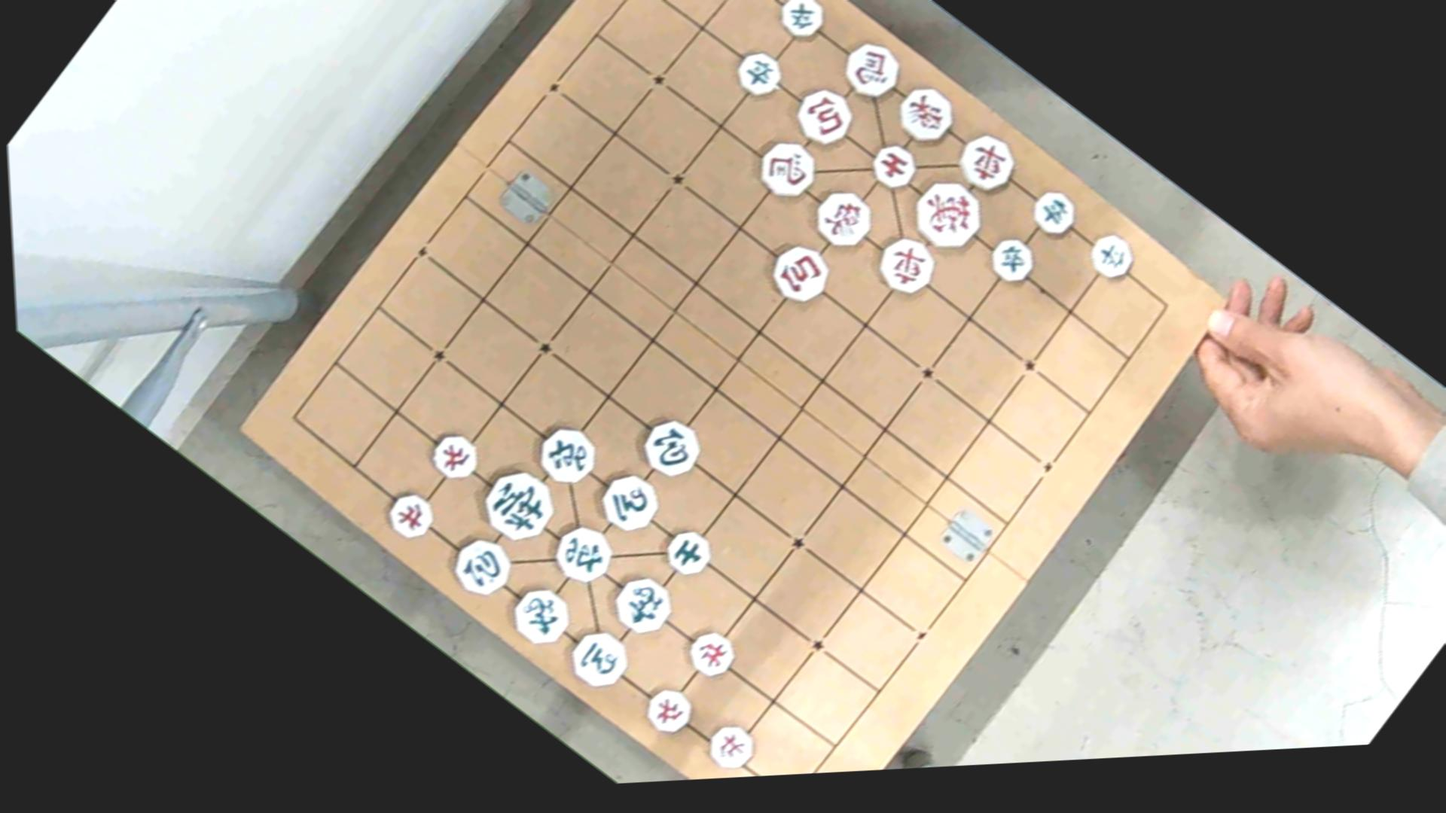cha_green: (525, 413, 609, 495), (544, 514, 624, 593)
cha_red: (946, 122, 1027, 201), (867, 228, 944, 303)
jol_green: (728, 41, 792, 103), (980, 232, 1042, 293), (1023, 182, 1084, 242), (1078, 227, 1140, 286), (769, 0, 831, 46)
jol_red: (380, 483, 444, 547), (679, 620, 743, 683), (698, 715, 761, 778), (425, 425, 489, 487), (639, 681, 701, 742)
ma_green: (587, 462, 667, 541), (559, 620, 639, 698)
ma_red: (745, 130, 827, 210), (832, 33, 911, 110)
po_green: (441, 527, 521, 606), (636, 409, 713, 485)
po_red: (758, 237, 839, 315), (782, 76, 861, 153)
sa_green: (656, 522, 721, 586)
sa_red: (863, 136, 925, 196)
sang_green: (501, 579, 580, 657), (604, 566, 681, 642)
sang_red: (802, 177, 883, 257), (885, 76, 962, 151)
wang_green: (468, 457, 568, 554)
wang_red: (900, 169, 993, 260)
